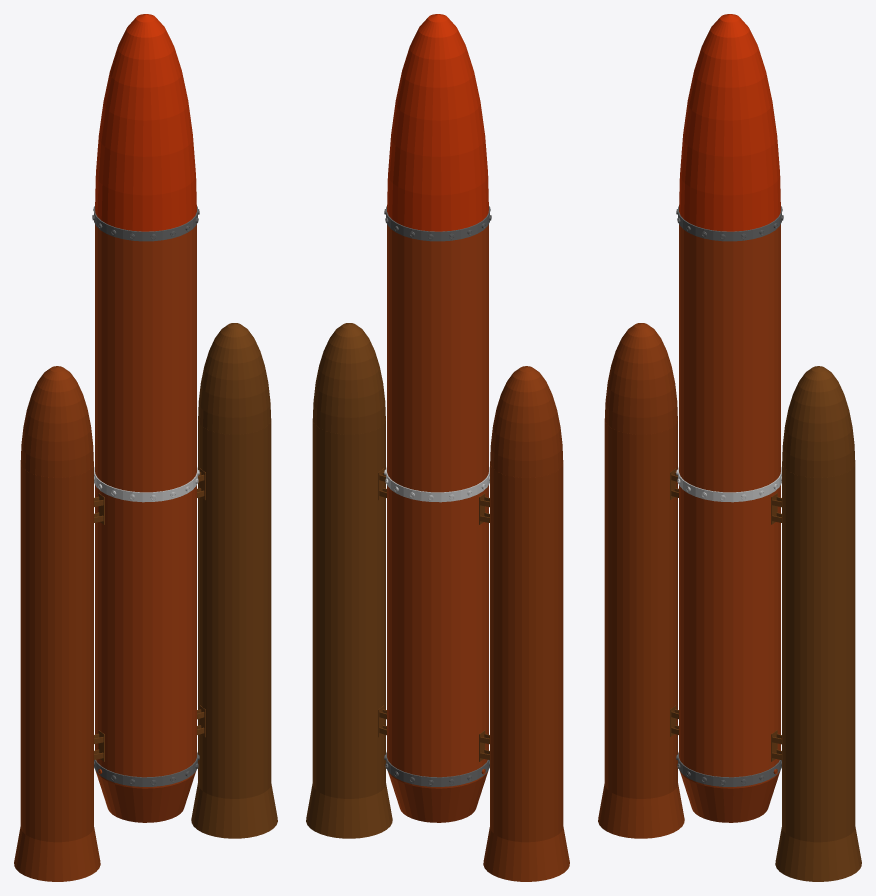
Rendered from КЩСУЕ 3.obj.
The picture shows the model from 3 angles, left to right: view 1: azimuth 30°, elevation 25°; view 2: azimuth 150°, elevation 25°; view 3: azimuth 330°, elevation 25°; orthographic projection.
Visible parts, largest first — view 1: Цилиндр, Цилиндр.052, Цилиндр.053, Сфера, Цилиндр.034, Цилиндр.035, Цилиндр.001; view 2: Цилиндр, Цилиндр.052, Цилиндр.053, Сфера, Цилиндр.034, Цилиндр.035, Цилиндр.001; view 3: Цилиндр, Цилиндр.053, Цилиндр.052, Сфера, Цилиндр.034, Цилиндр.035, Цилиндр.001.
Boxes of the visible parts, left/top/right/bottom form: Цилиндр: left=95, top=224, right=196, bottom=822; Цилиндр.052: left=14, top=366, right=100, bottom=881; Цилиндр.053: left=191, top=323, right=277, bottom=838; Сфера: left=95, top=14, right=196, bottom=231; Цилиндр.034: left=94, top=206, right=197, bottom=241; Цилиндр.035: left=94, top=467, right=197, bottom=502; Цилиндр.001: left=94, top=752, right=197, bottom=786; Цилиндр: left=387, top=224, right=488, bottom=822; Цилиндр.052: left=483, top=366, right=569, bottom=881; Цилиндр.053: left=306, top=323, right=392, bottom=838; Сфера: left=387, top=14, right=488, bottom=231; Цилиндр.034: left=386, top=206, right=489, bottom=241; Цилиндр.035: left=386, top=467, right=489, bottom=502; Цилиндр.001: left=386, top=752, right=489, bottom=786; Цилиндр: left=679, top=224, right=780, bottom=822; Цилиндр.053: left=775, top=366, right=861, bottom=881; Цилиндр.052: left=598, top=323, right=684, bottom=838; Сфера: left=679, top=14, right=780, bottom=231; Цилиндр.034: left=678, top=206, right=781, bottom=241; Цилиндр.035: left=678, top=467, right=781, bottom=502; Цилиндр.001: left=678, top=752, right=781, bottom=786.
Bounding box in the file's own units: 5.7 × 17.84 × 2.1.
